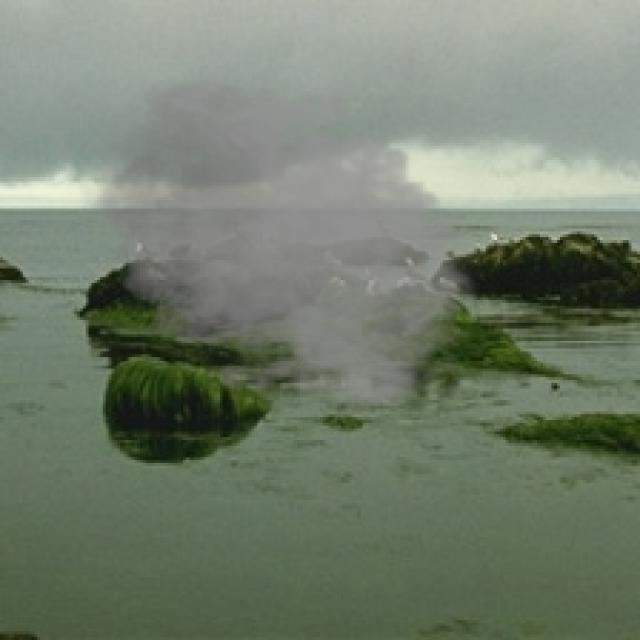smoke: (66, 66, 488, 414)
